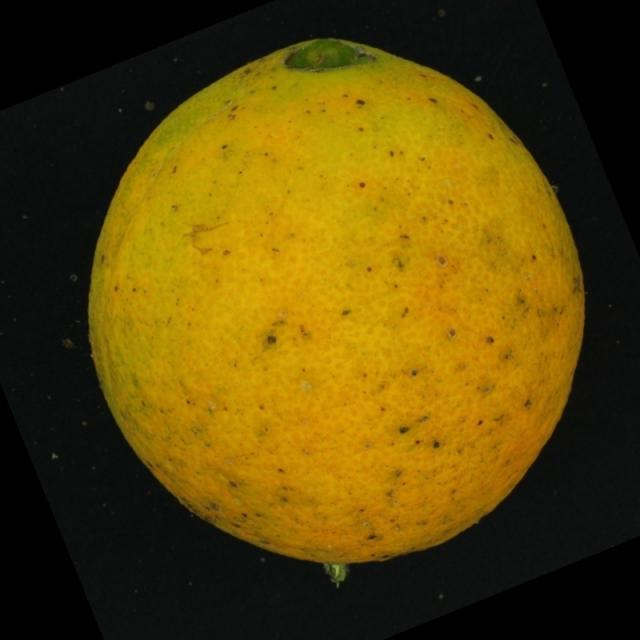grenning: (64, 16, 596, 604)
